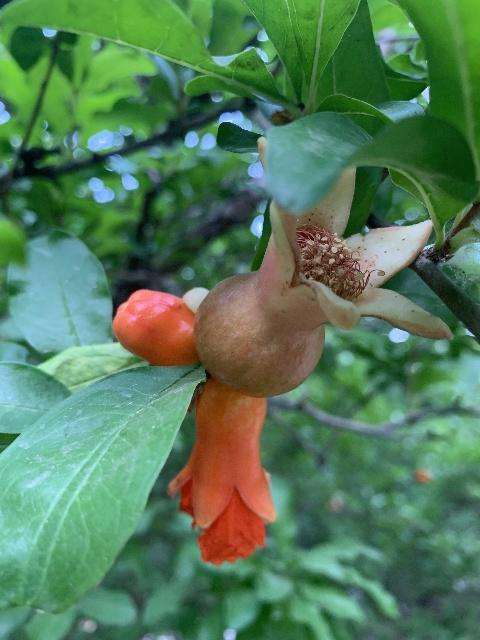bud: (111, 289, 199, 366)
early-fruit: (190, 129, 451, 397)
flower: (167, 377, 276, 565)
